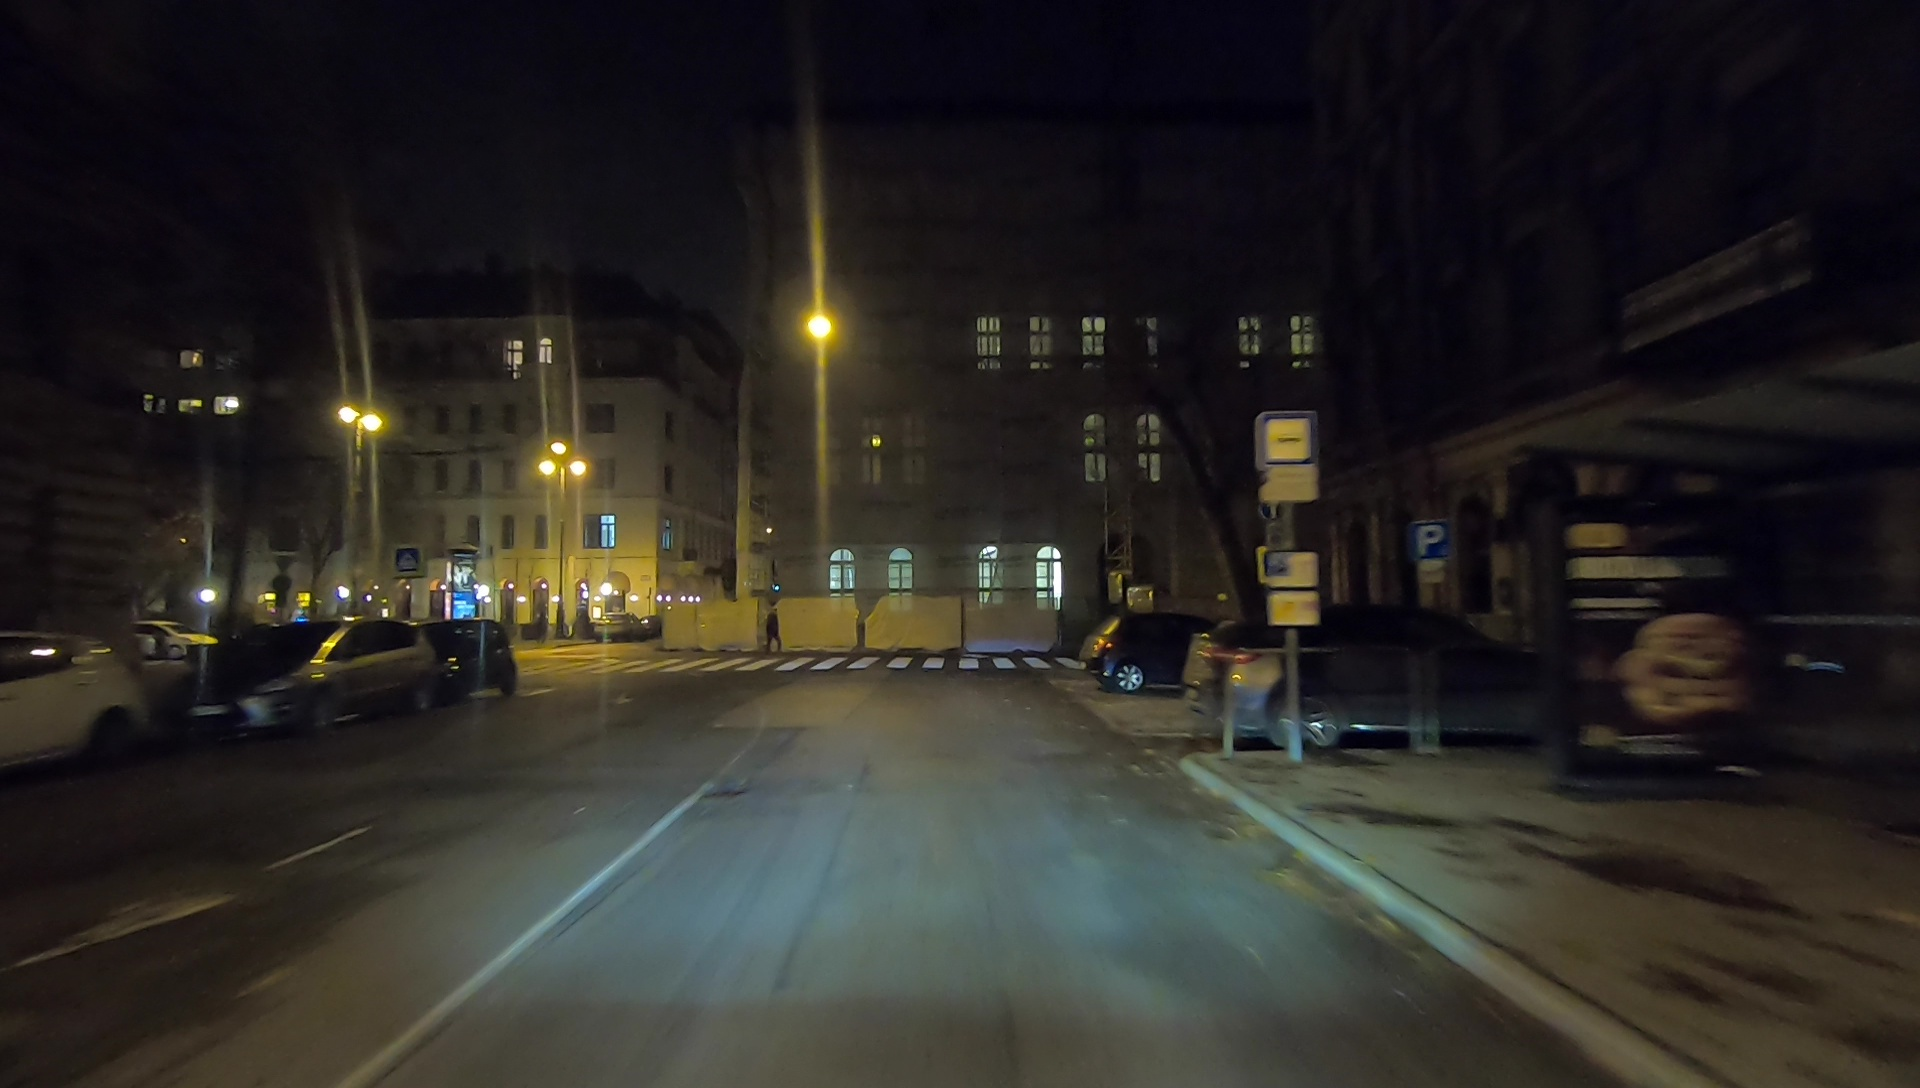person: (761, 608, 783, 654)
